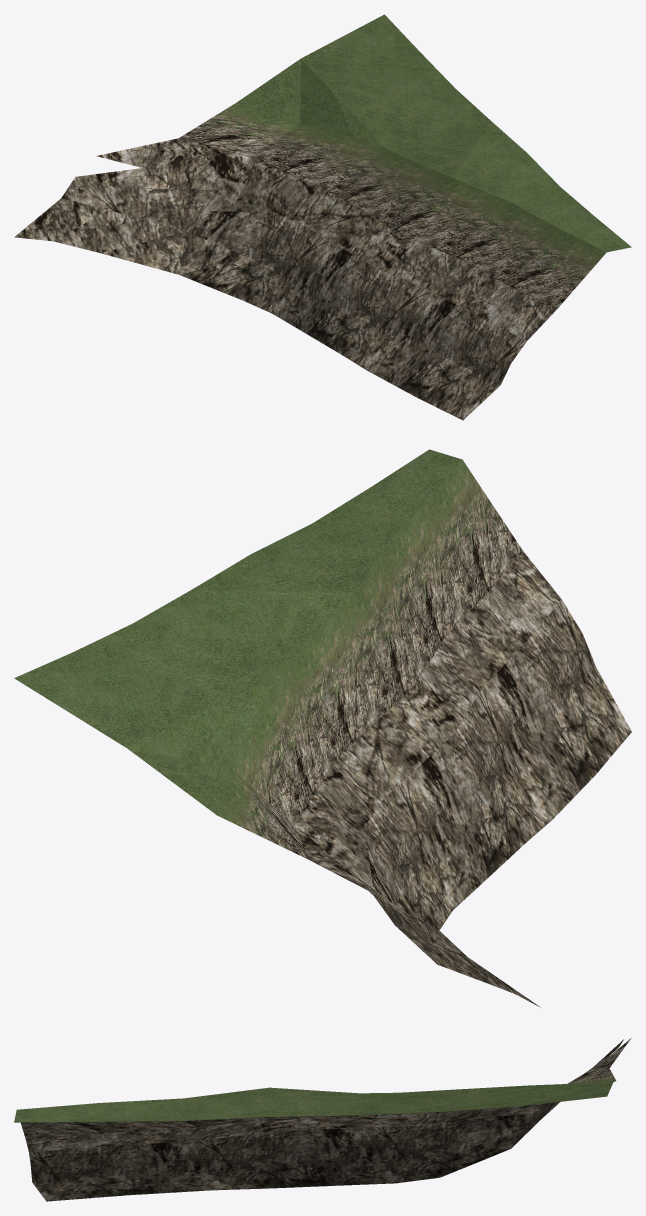
Rendered from a_carisle_mid_landmass_02_02.fbx.
3 renders of one model, top to bottom at view 1: azimuth 30°, elevation 25°; view 2: azimuth 150°, elevation 25°; view 3: azimuth 270°, elevation 25°, orthographic. The views are drawn at different scales.
Parts seen in each view (by area): view 1: a_carisle_mid_landmass_02_02; view 2: a_carisle_mid_landmass_02_02; view 3: a_carisle_mid_landmass_02_02.
Part boxes in pixels (<box>): a_carisle_mid_landmass_02_02: <box>14,14,631,420</box>; a_carisle_mid_landmass_02_02: <box>14,449,631,1007</box>; a_carisle_mid_landmass_02_02: <box>14,1038,631,1201</box>.
Bounding box in the file's own units: 11.15 × 14.61 × 5.2.
